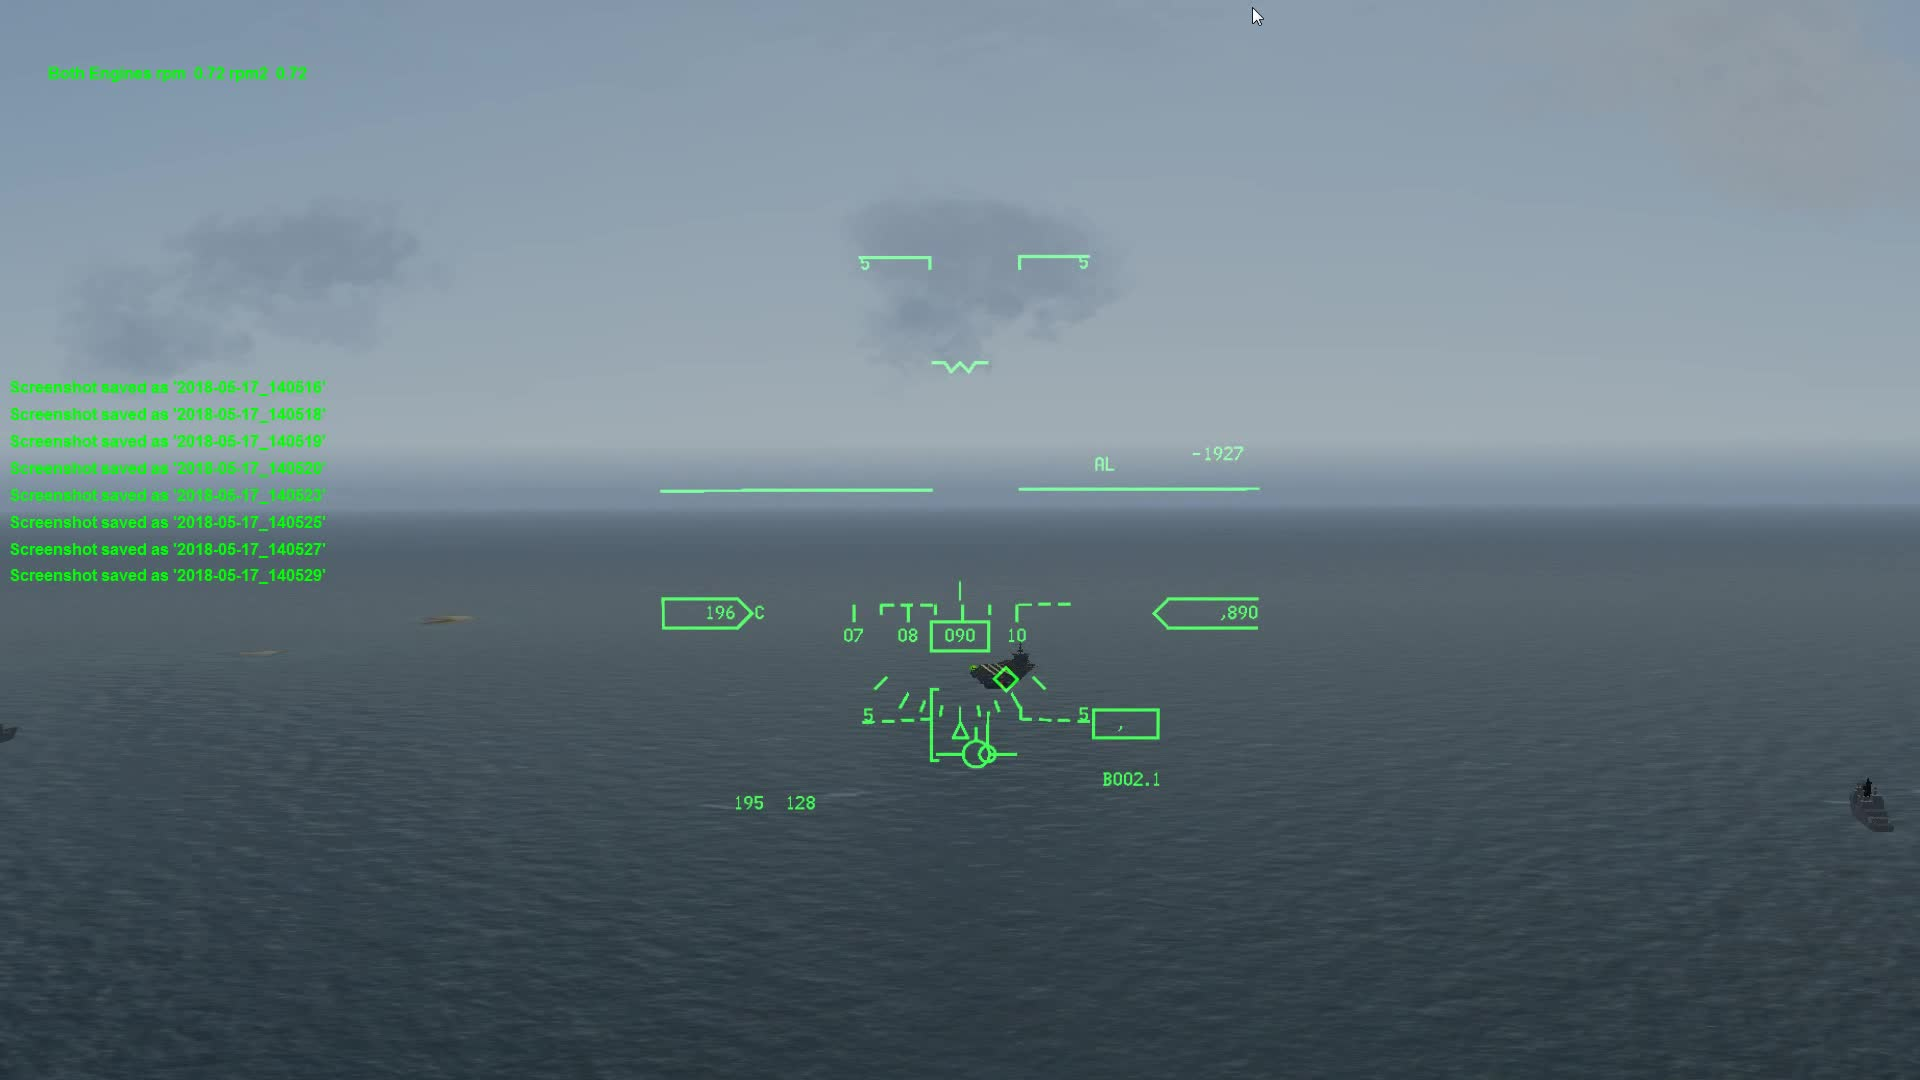speed vector: (934, 729, 1022, 781)
